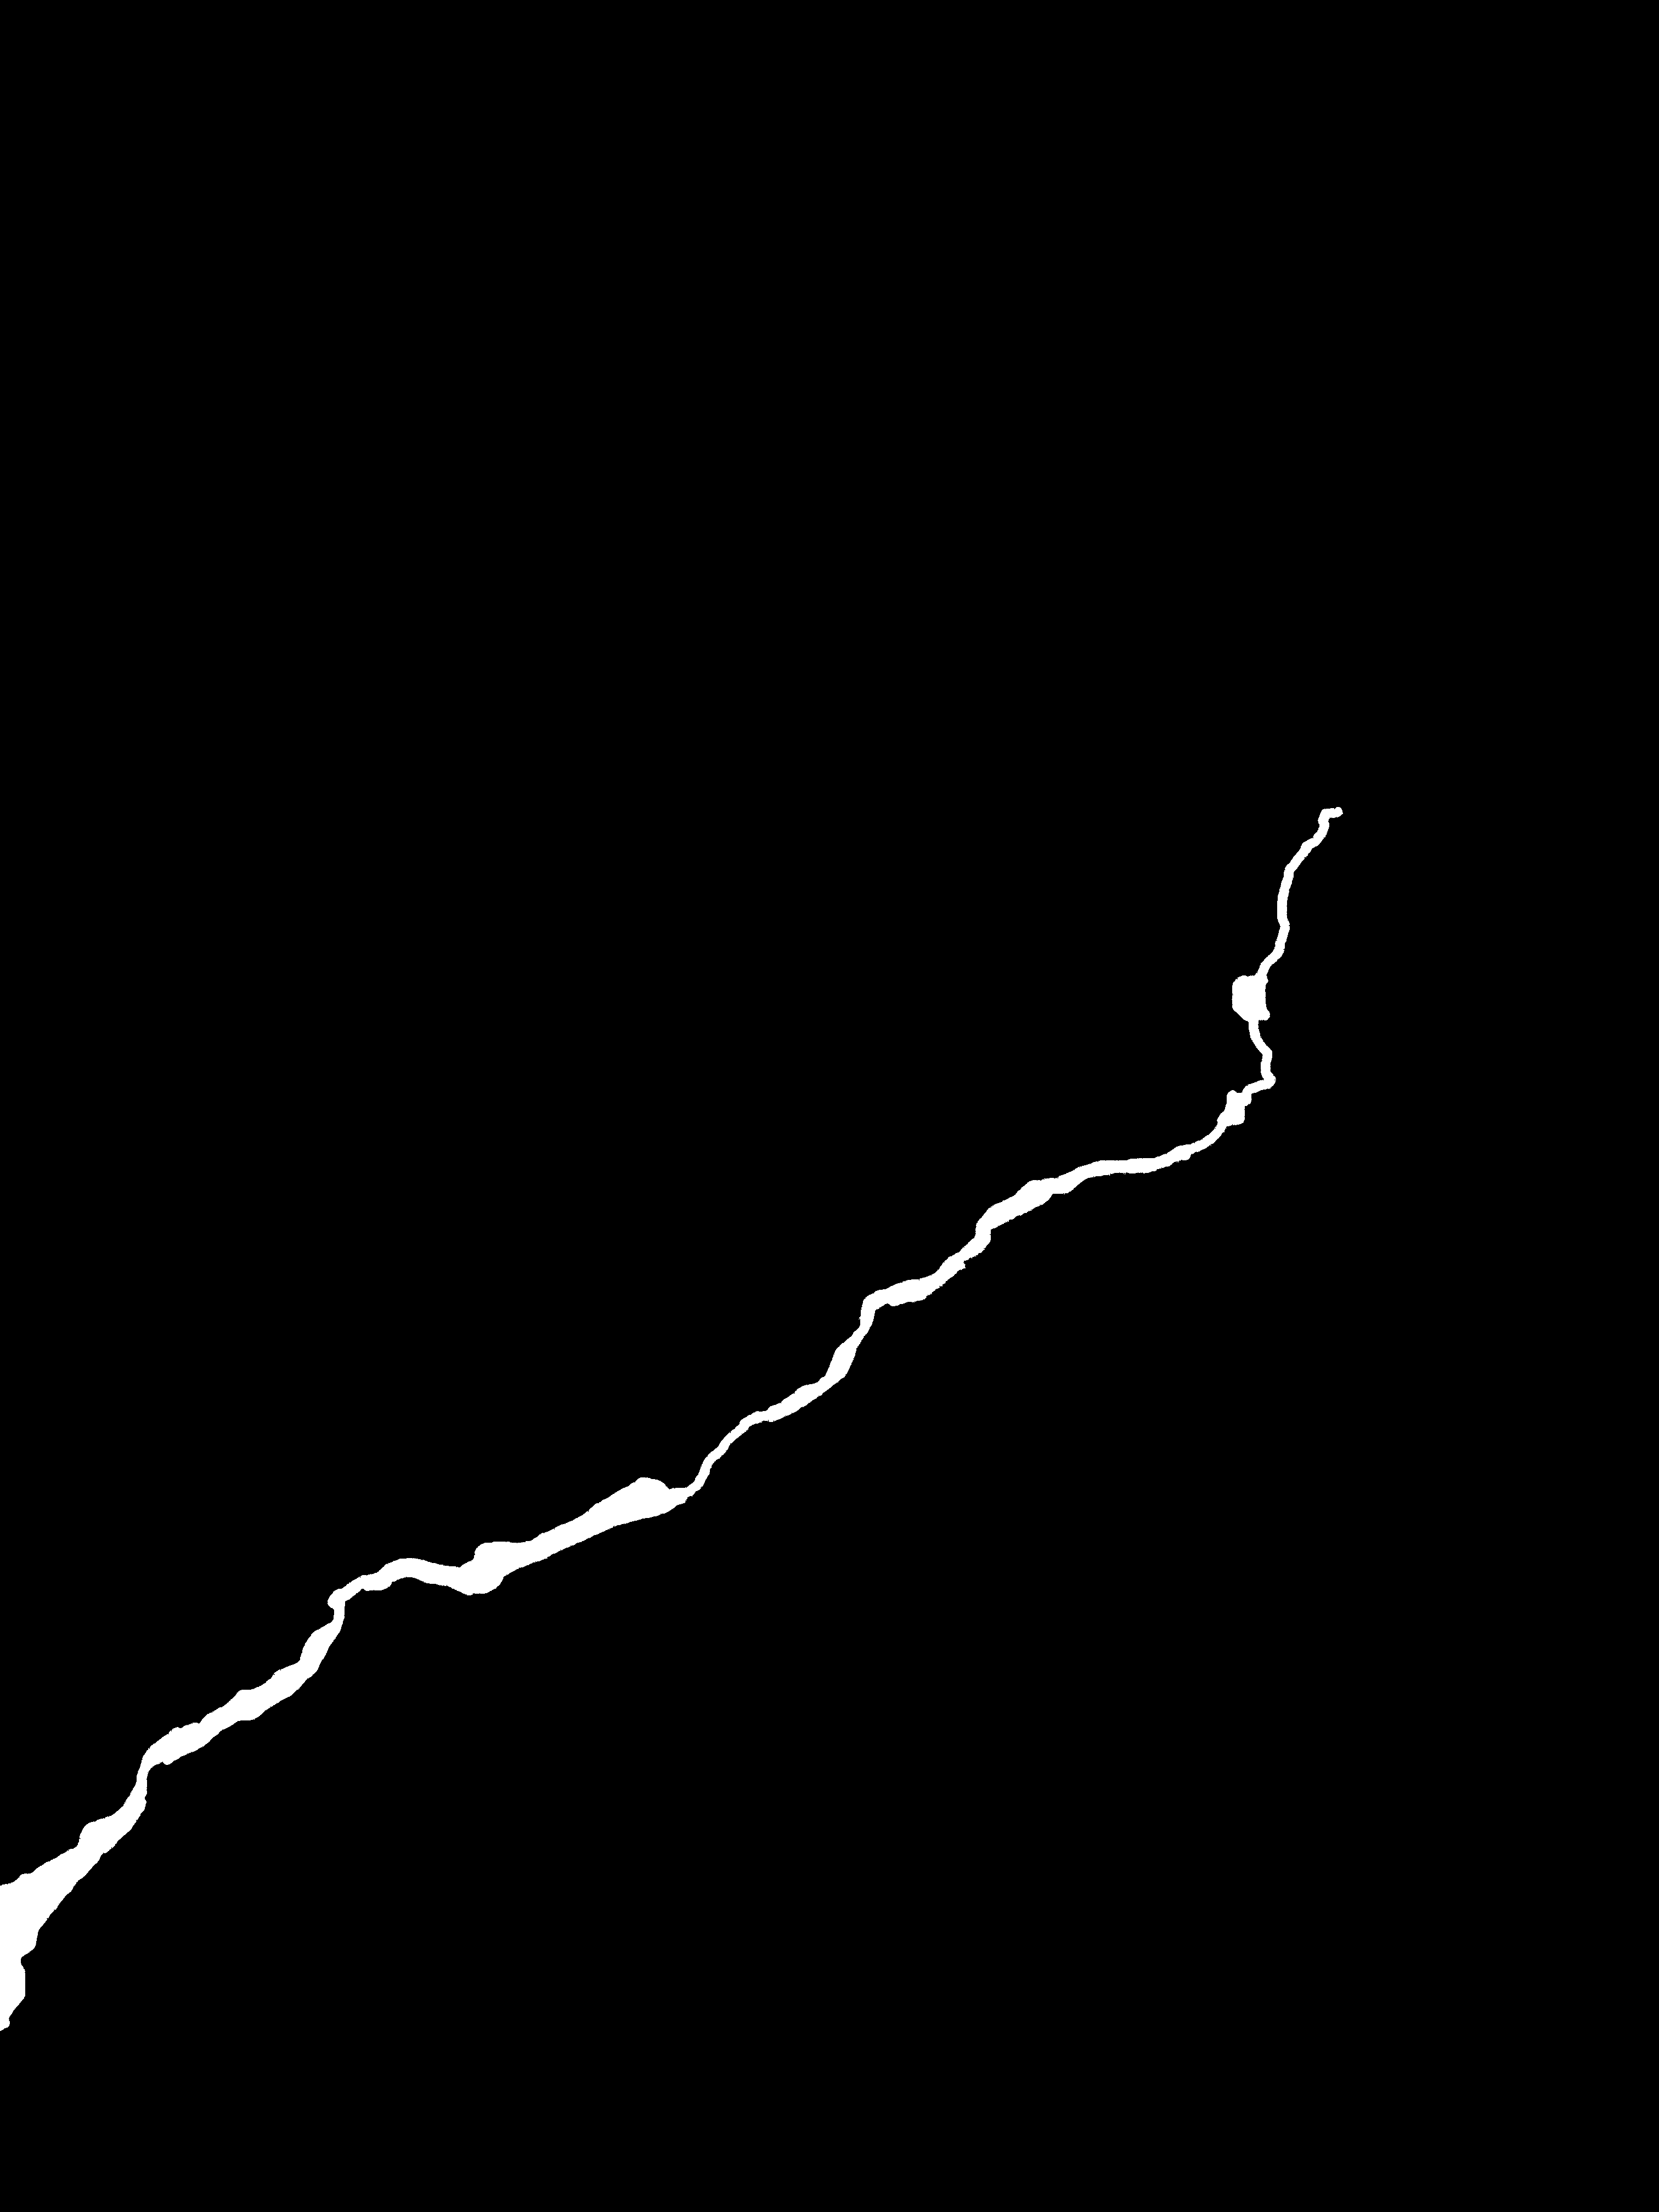Crack: (0, 759, 1398, 2022)
